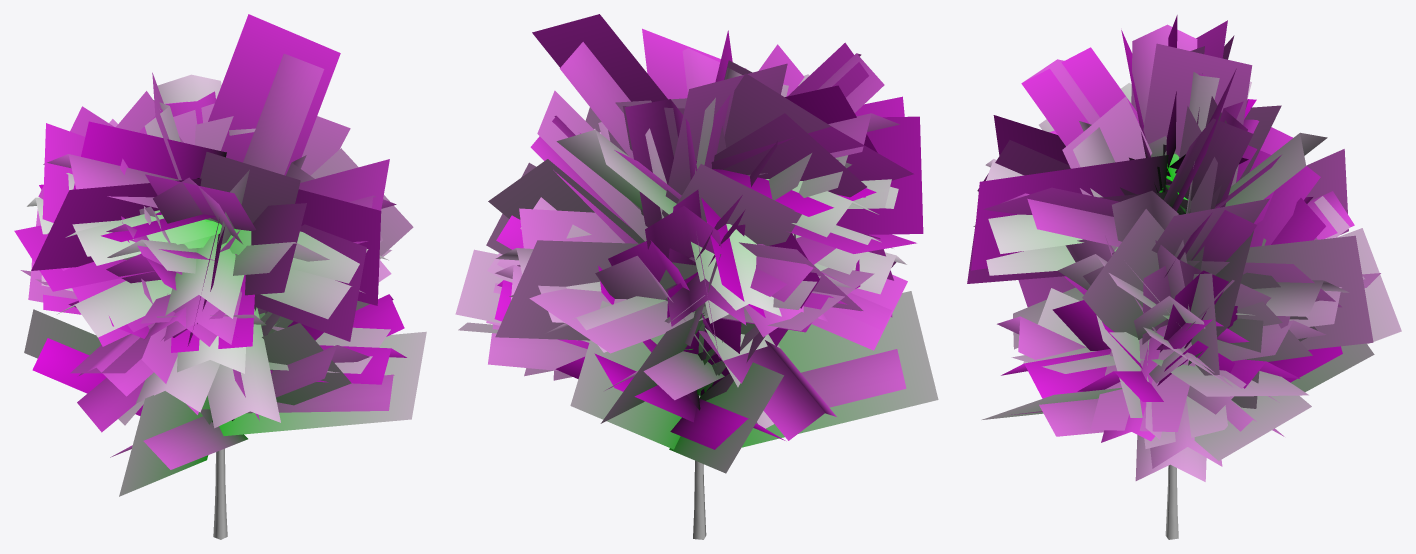
File: rowan_12.fbx
The picture shows the model from 3 angles, left to right: view 1: azimuth 30°, elevation 25°; view 2: azimuth 150°, elevation 25°; view 3: azimuth 270°, elevation 25°; orthographic projection. The views are drawn at different scales.
Parts seen in each view (by area): view 1: rowan_leaves_12_shadow, rowan_leaves_12_lod0, rowan_tree_12_lod0; view 2: rowan_leaves_12_shadow, rowan_leaves_12_lod0, rowan_tree_12_lod0; view 3: rowan_leaves_12_shadow, rowan_leaves_12_lod0, rowan_tree_12_lod0.
Part boxes in pixels (box(x1,y1,x2,y2)): rowan_leaves_12_shadow: box(14, 14, 426, 496); rowan_leaves_12_lod0: box(27, 53, 406, 469); rowan_tree_12_lod0: box(213, 448, 227, 539); rowan_leaves_12_shadow: box(455, 14, 938, 473); rowan_leaves_12_lod0: box(486, 42, 906, 449); rowan_tree_12_lod0: box(693, 395, 706, 539); rowan_leaves_12_shadow: box(967, 15, 1401, 460); rowan_leaves_12_lod0: box(973, 24, 1365, 481); rowan_tree_12_lod0: box(1165, 464, 1178, 539).
Size of what is drawn, in the model's own units: 2.35 by 2.82 by 2.23.
